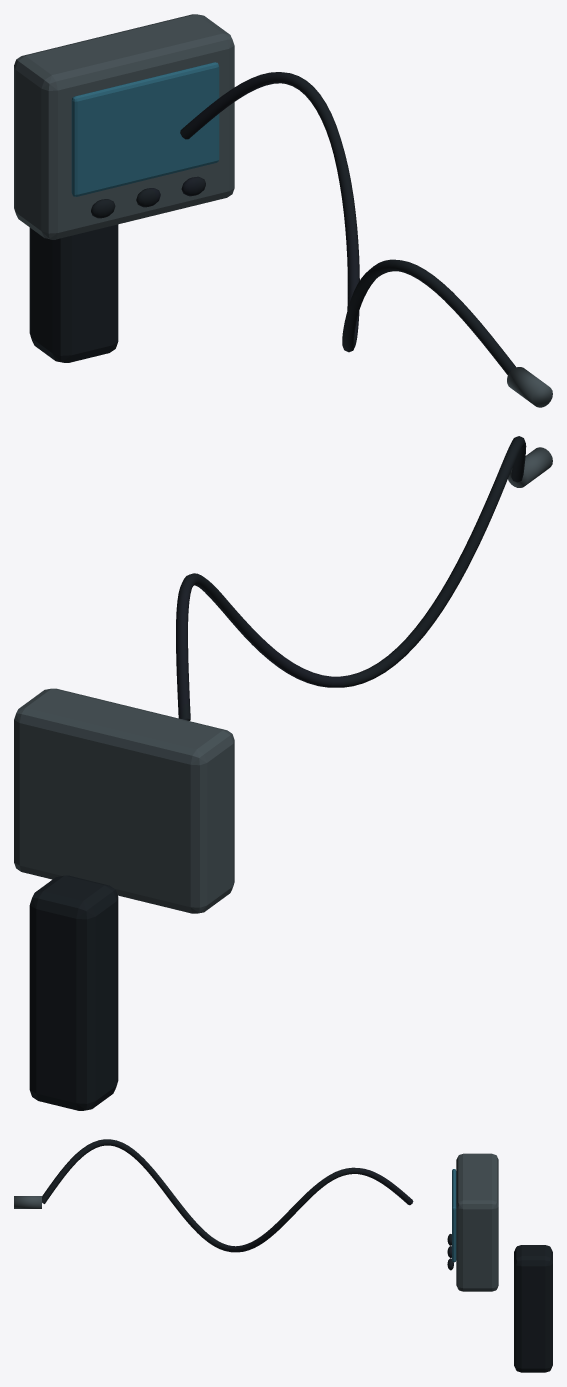
File: PROP_Borescope.mobile.glb
3 views of the same model, one above another, from view 1: azimuth 30°, elevation 25°; view 2: azimuth 150°, elevation 25°; view 3: azimuth 270°, elevation 25° (orthographic). The views are drawn at different scales.
Parts seen in each view (by area): view 1: PROP_Borescope; view 2: PROP_Borescope; view 3: PROP_Borescope.
Boxes of the visible parts, <box> form: PROP_Borescope: <box>14,14,552,407</box>; PROP_Borescope: <box>14,436,552,1110</box>; PROP_Borescope: <box>14,1139,552,1372</box>.
Size of the model in its own units: 0.11 by 0.2105 by 0.4825.
1 material, 1 textured.
